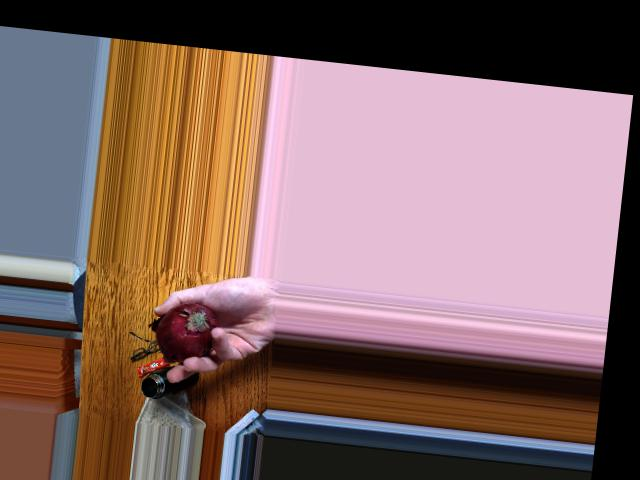onion: (160, 299, 219, 361)
